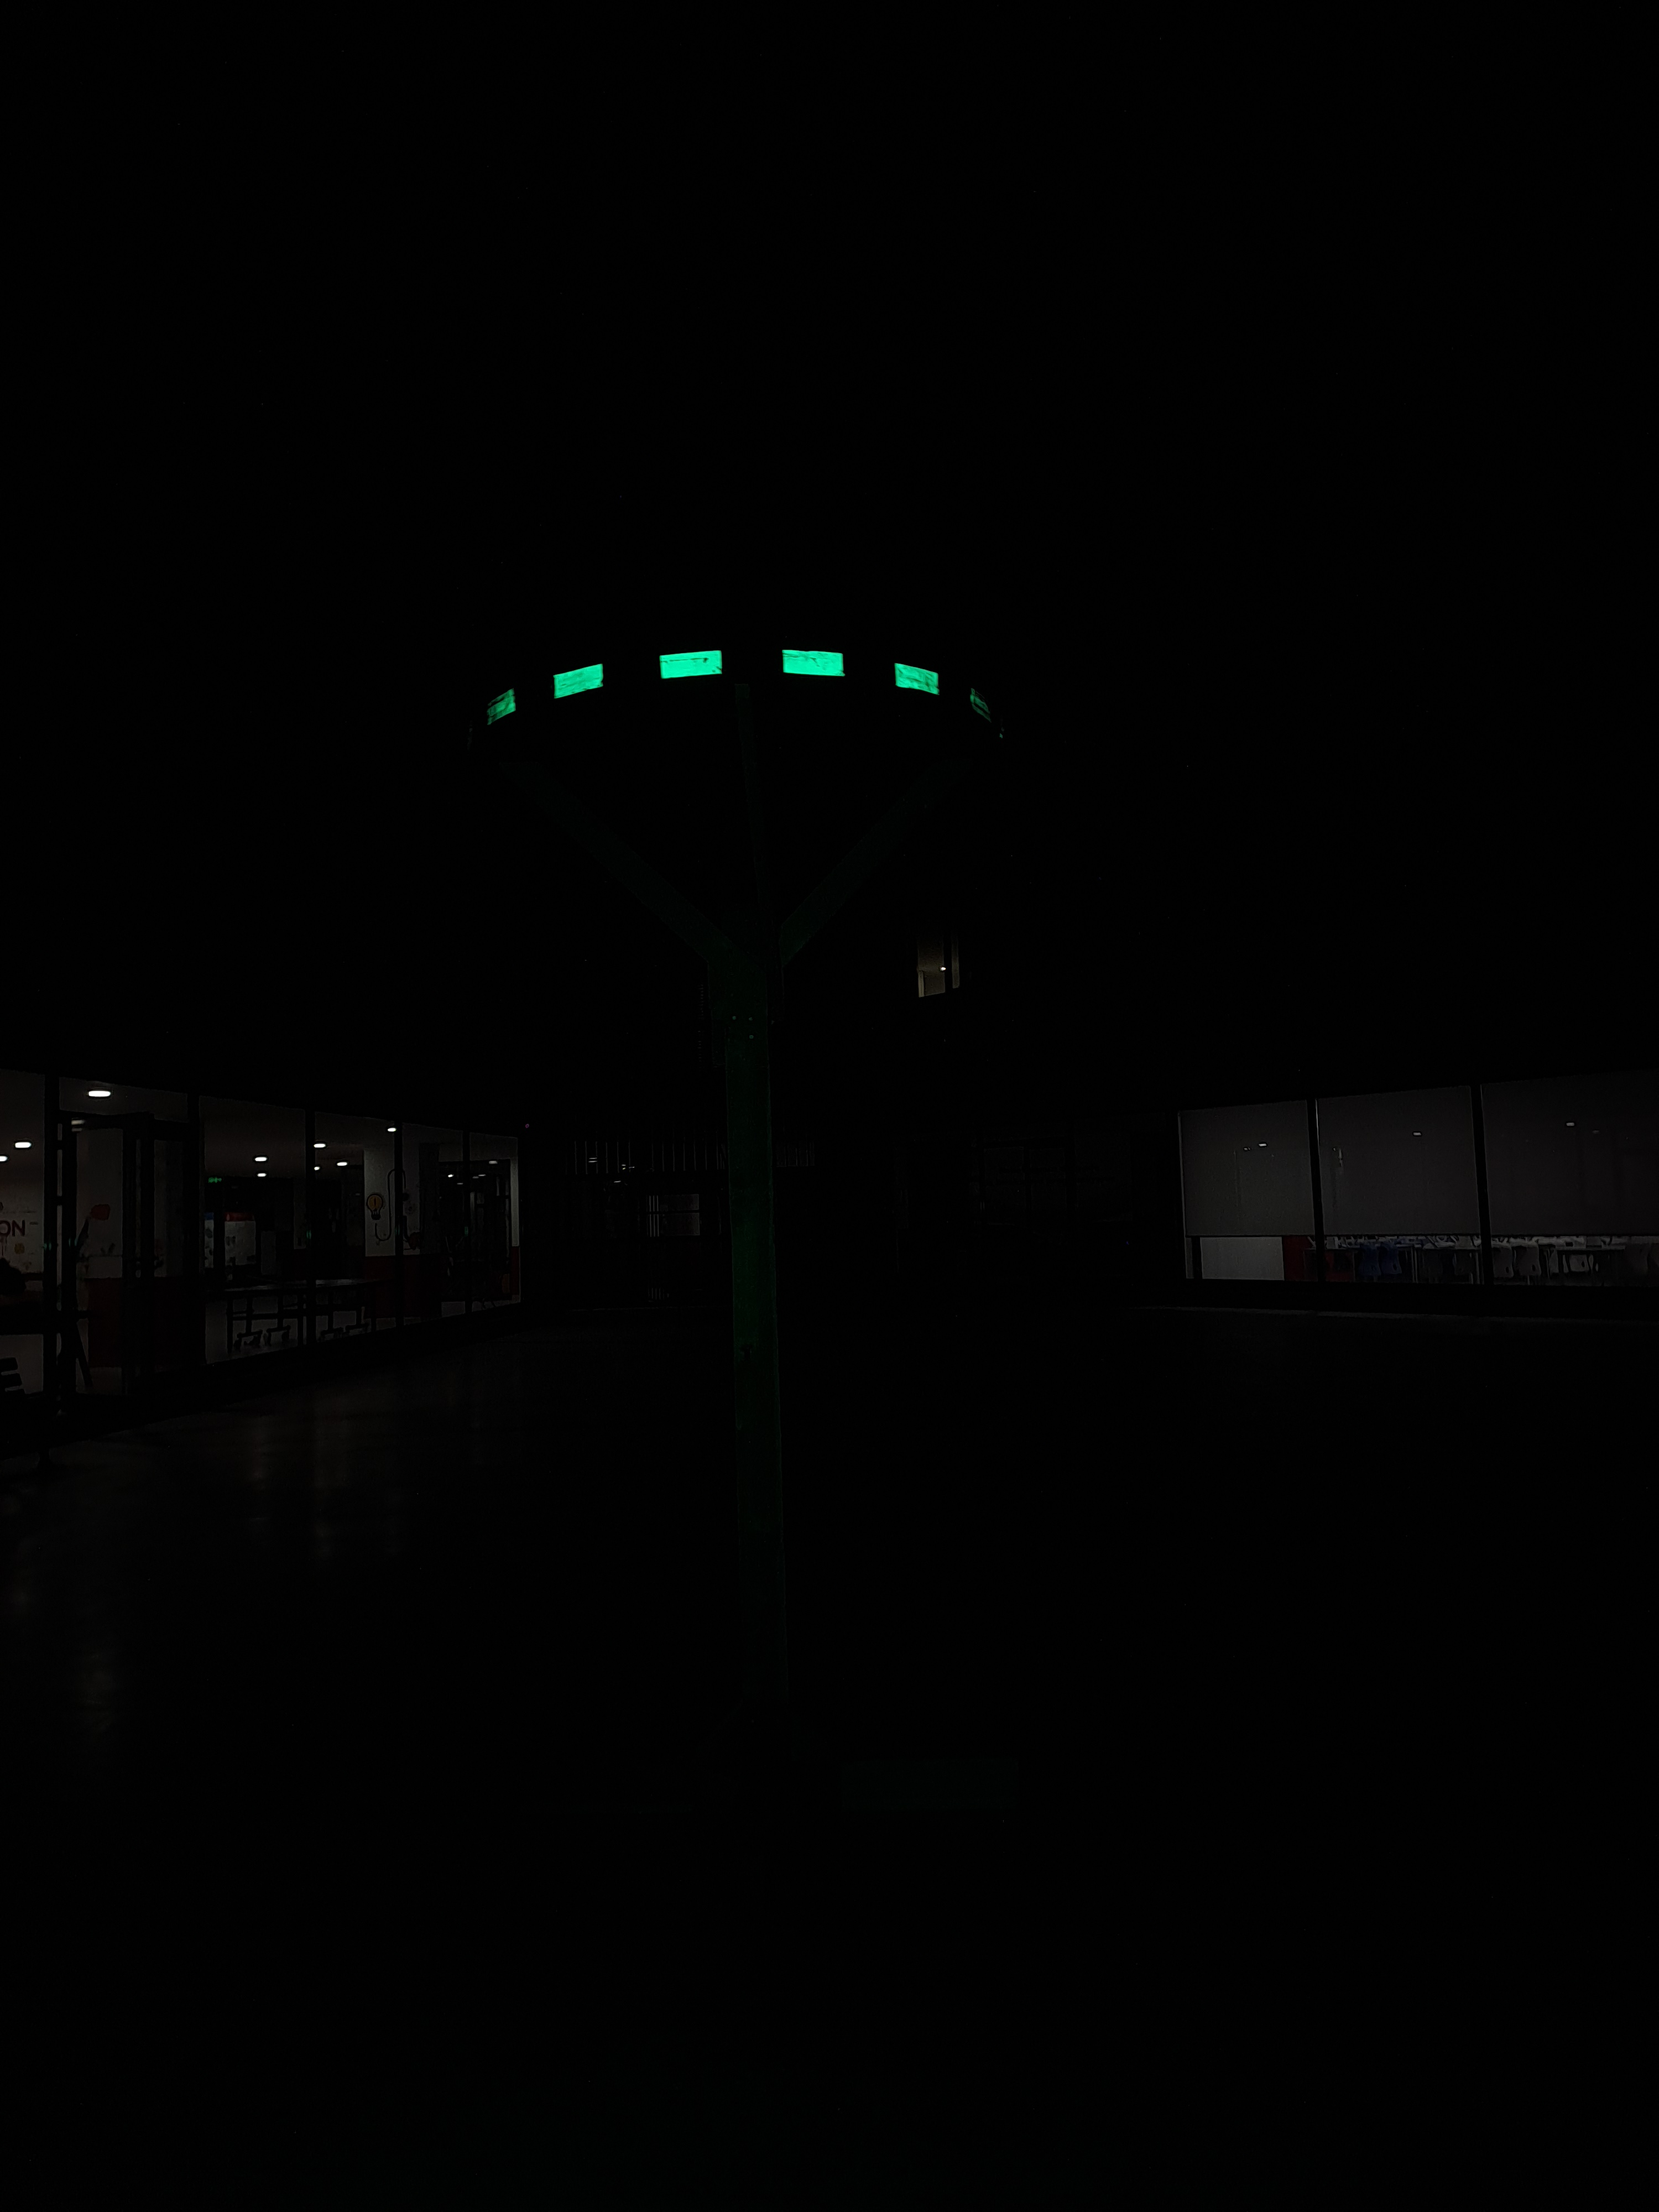hoop: (479, 641, 945, 732)
